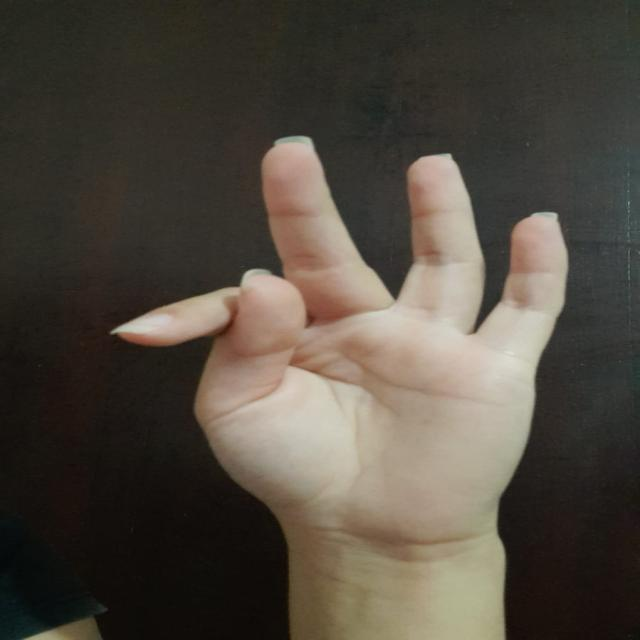T: (103, 118, 594, 538)
